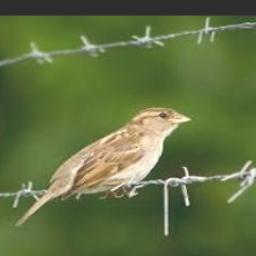Sparrow: (14, 106, 192, 226)
